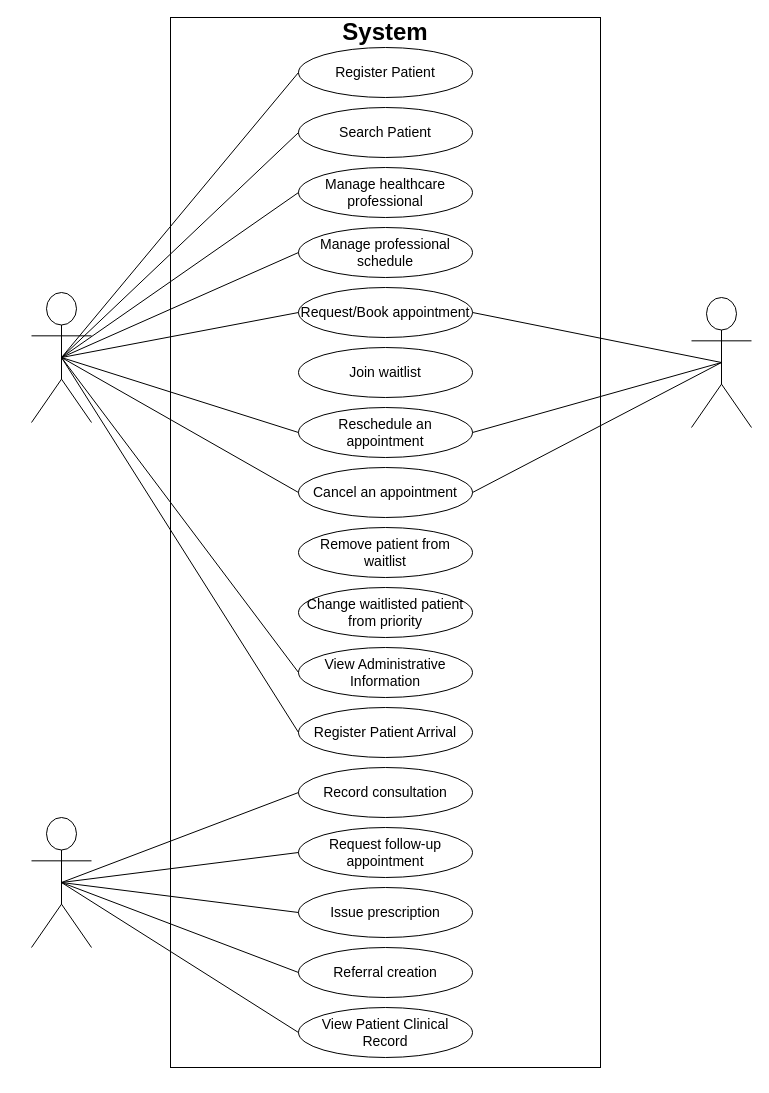
Image size: 769x1093. Some labels were removed from this diagram. The centre of each missing label's shape, as x and y in pixels:
"Administrative Staff" goes at point 61,357.
"Healthcare Professional" goes at point 61,882.
"Patient" goes at point 721,362.
